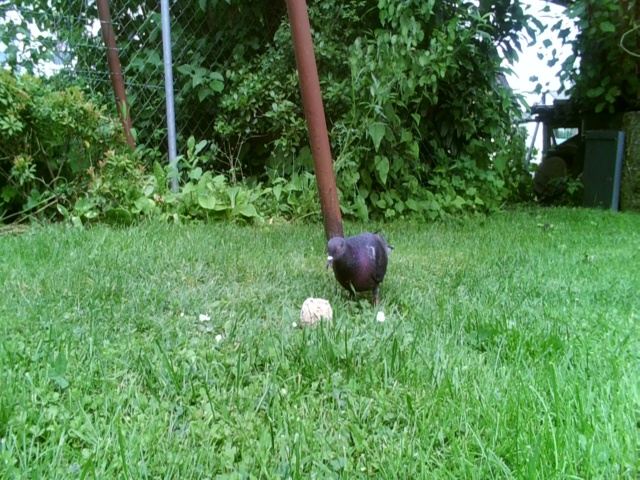Pigeon: (313, 224, 407, 314)
